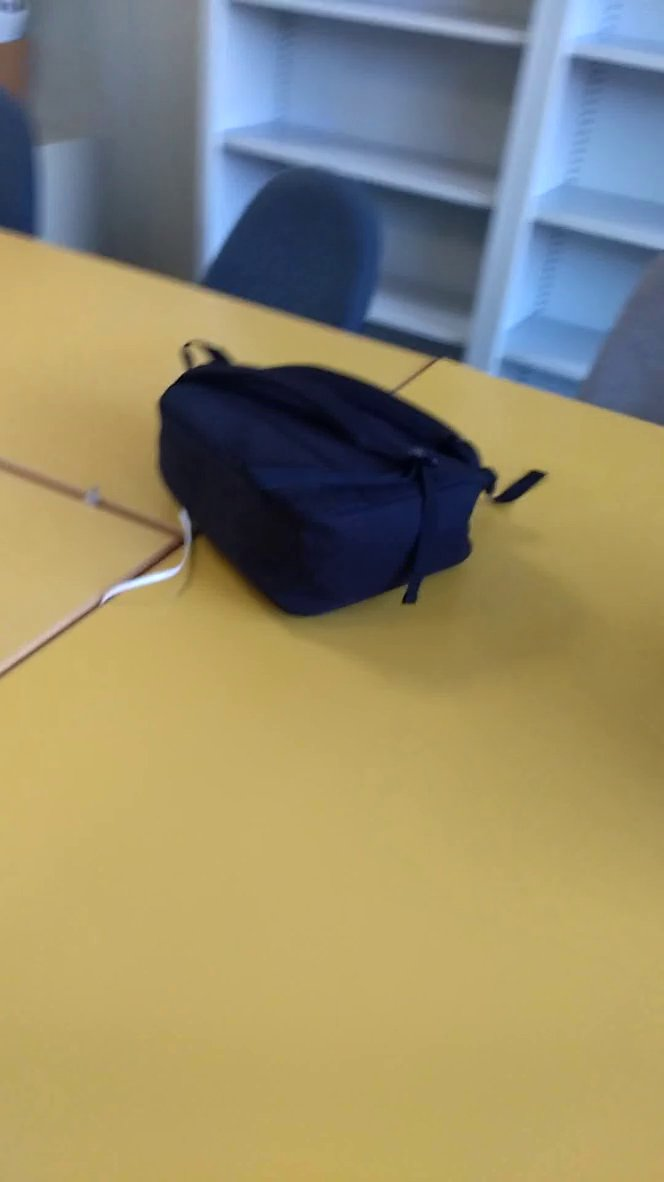bag: (144, 331, 564, 629)
chair: (177, 159, 391, 355)
